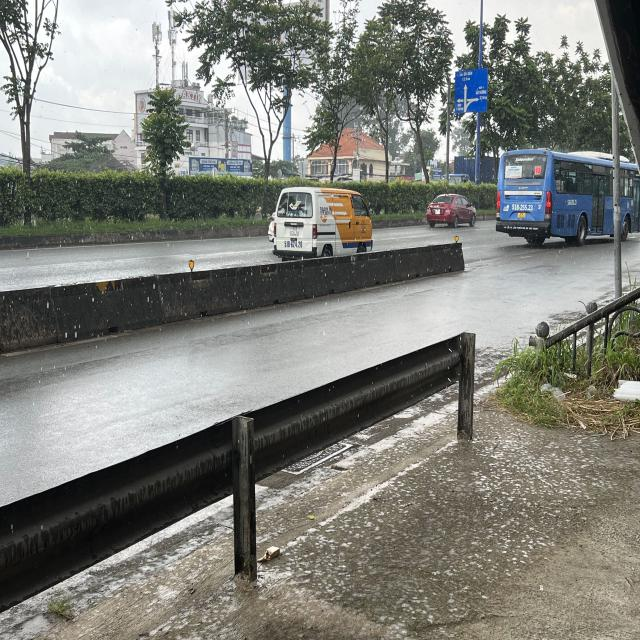car: (428, 195, 478, 231)
coach: (494, 148, 640, 247)
van: (271, 186, 374, 261)
